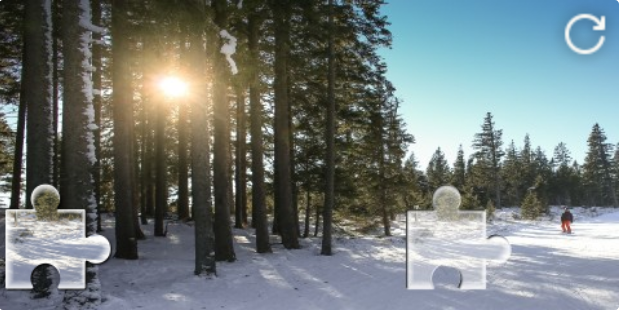target: (407, 184, 513, 291)
